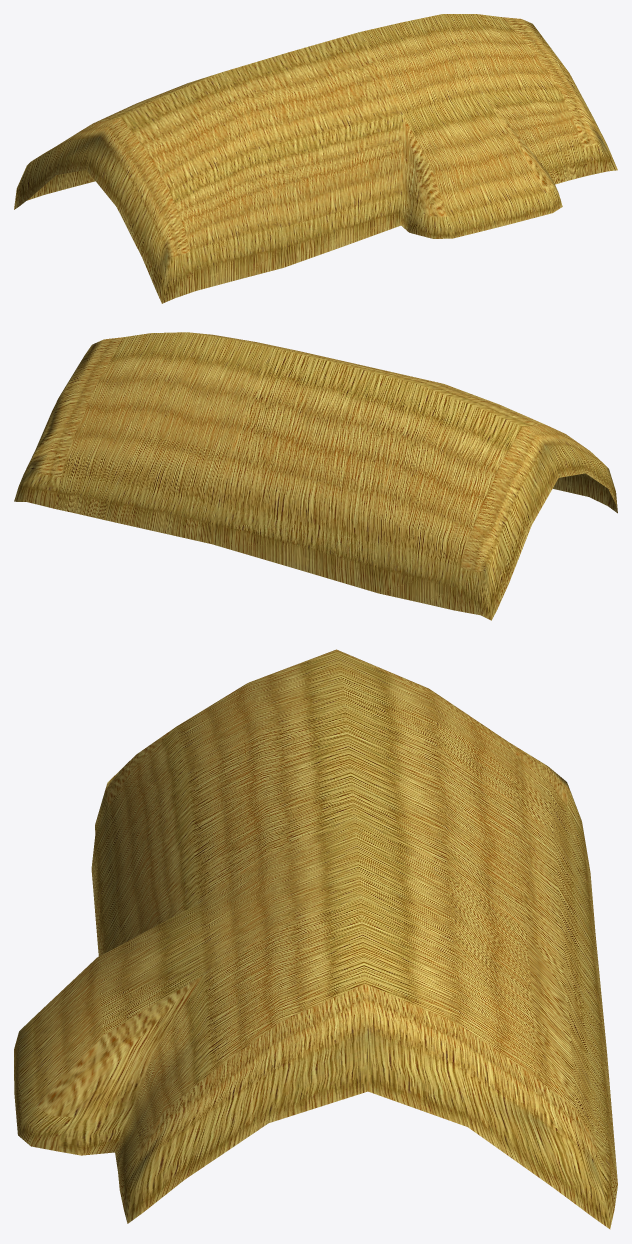
The model's file is HTOWN01_GREENDRAGROOF.fbx.
3 renders of one model, top to bottom at view 1: azimuth 30°, elevation 25°; view 2: azimuth 150°, elevation 25°; view 3: azimuth 270°, elevation 25°, orthographic. The views are drawn at different scales.
Parts seen in each view (by area): view 1: HTOWN01_GREENDRAGROOF; view 2: HTOWN01_GREENDRAGROOF; view 3: HTOWN01_GREENDRAGROOF.
Boxes of the visible parts, <box> form: HTOWN01_GREENDRAGROOF: <box>14,14,617,303</box>; HTOWN01_GREENDRAGROOF: <box>14,332,617,620</box>; HTOWN01_GREENDRAGROOF: <box>14,649,617,1229</box>.
Bounding box in the file's own units: 98776 × 31036 × 62230.
4 materials, 4 textured.
